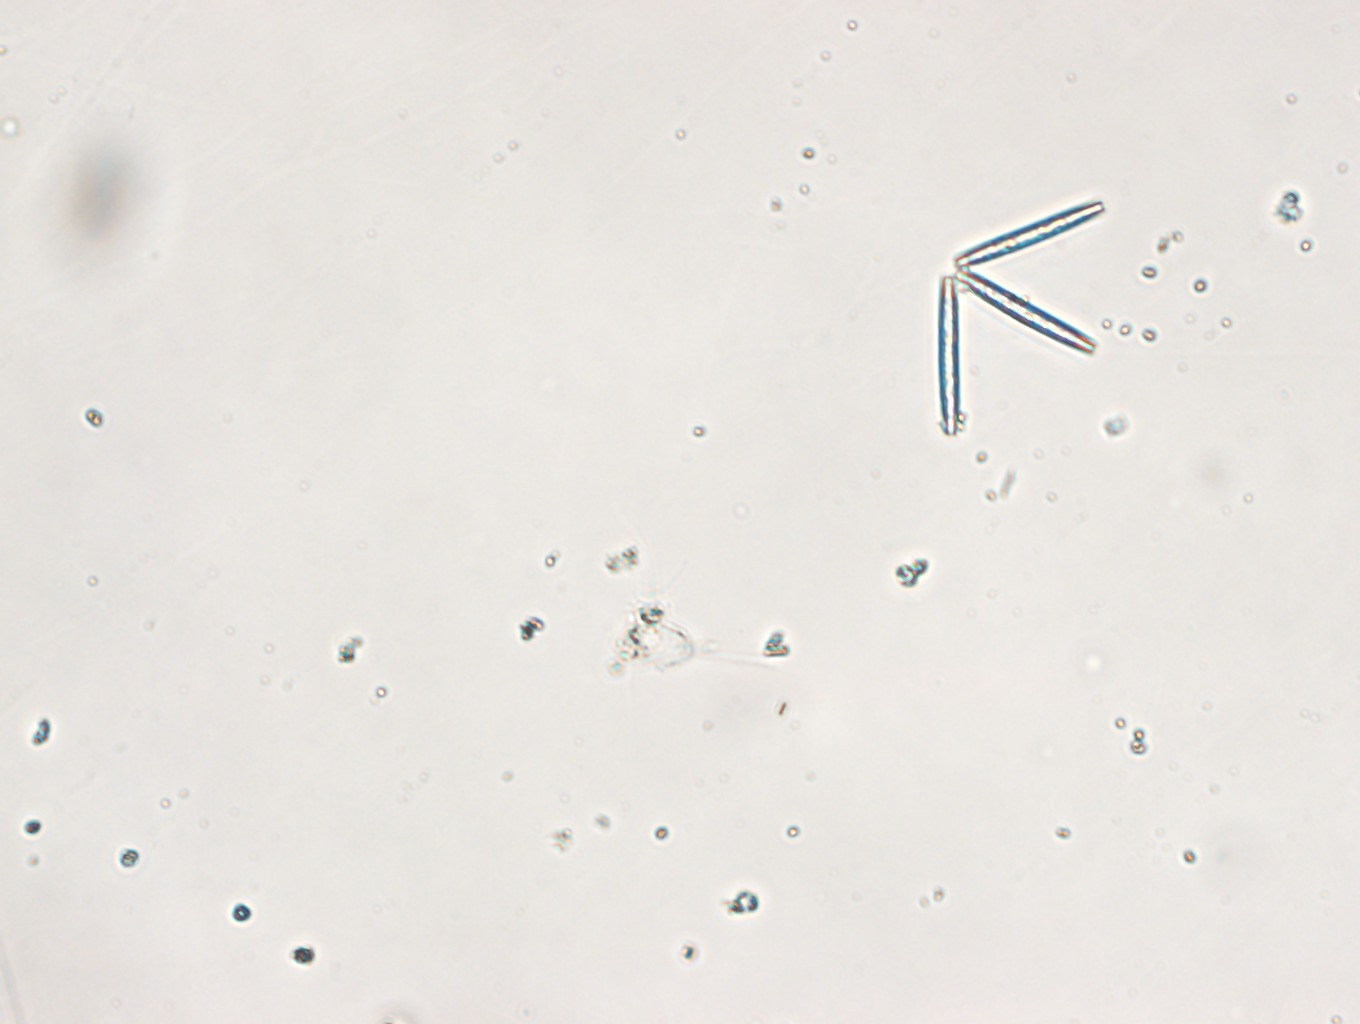thalassionema frauenfeldii: (922, 190, 1116, 436)
